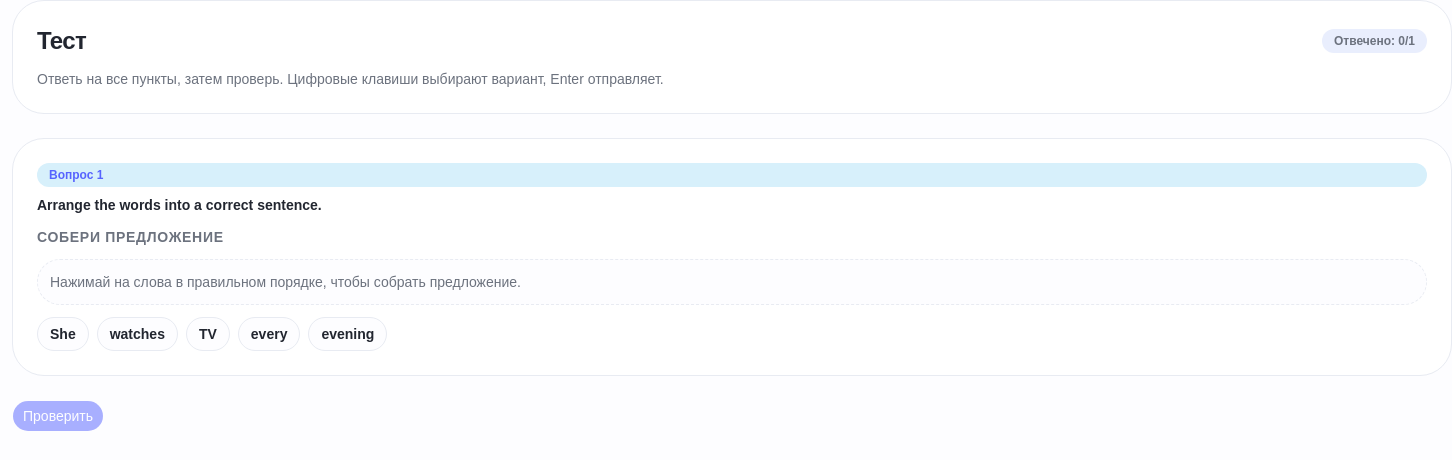
QuizRunner › word_order builds the sentence by tapping tokens and submits the ordering
Expected: the text "Arrange the words into a correct sentence." is shown, [37,197,322,213]
Click the button "She" at point(63, 334), box [37,317,89,351]
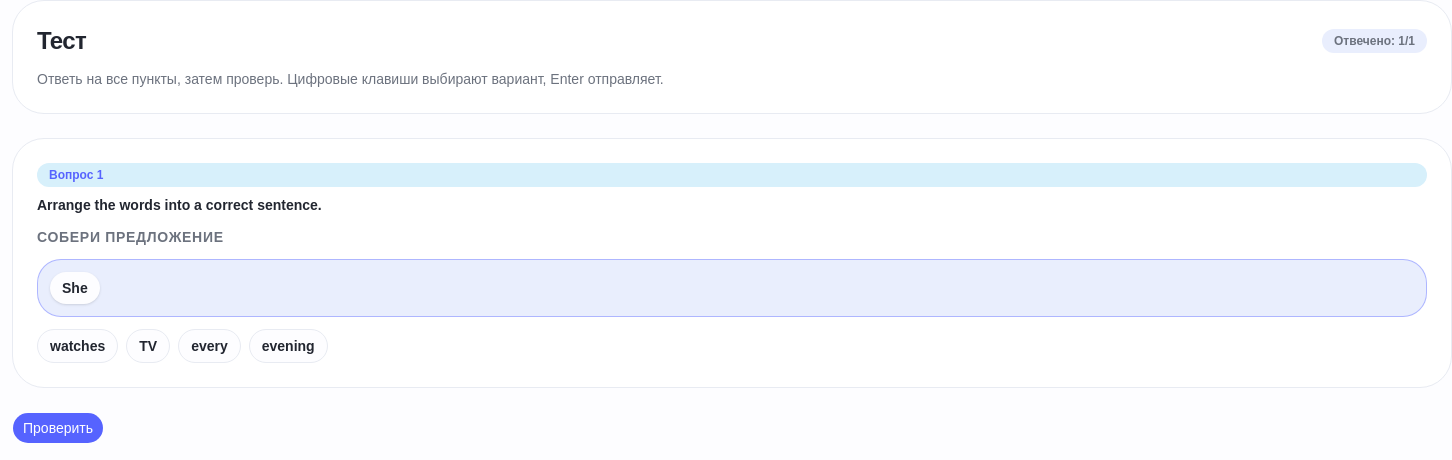
Click the button "watches" at point(78, 346), box [37,329,118,363]
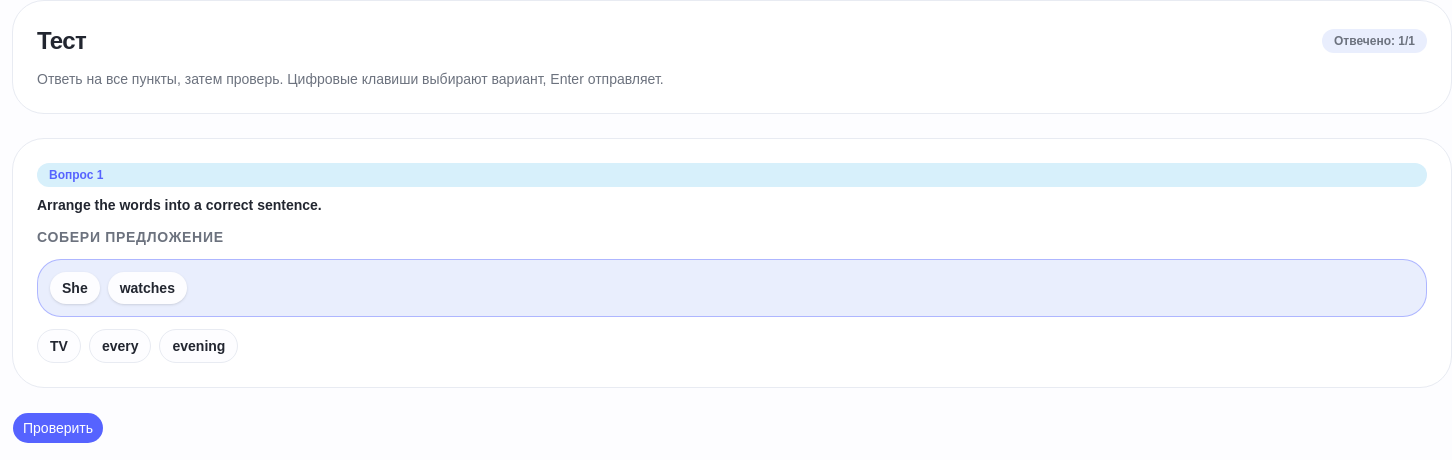
Click the button "TV" at point(59, 346), box [37,329,81,363]
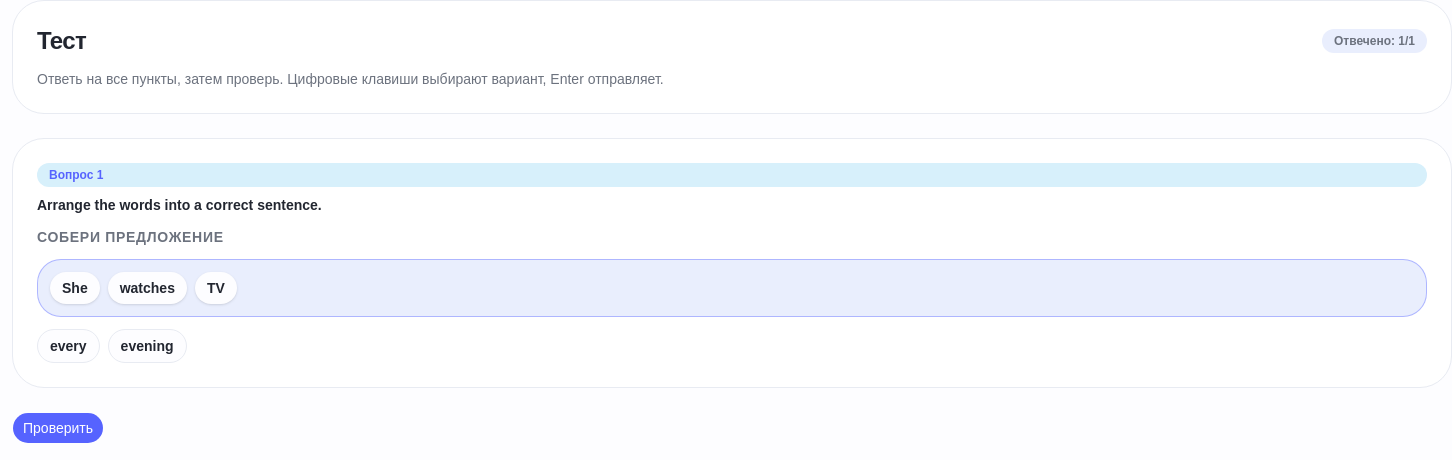
Click the button "every" at point(68, 346), box [37,329,100,363]
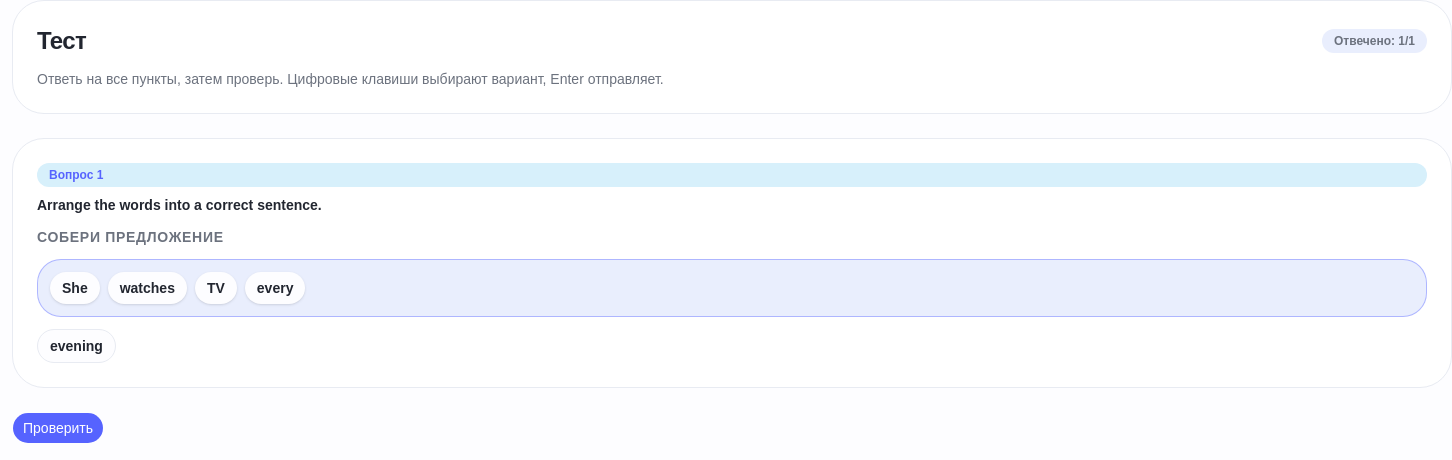
Click the button "evening" at point(76, 346), box [37,329,116,363]
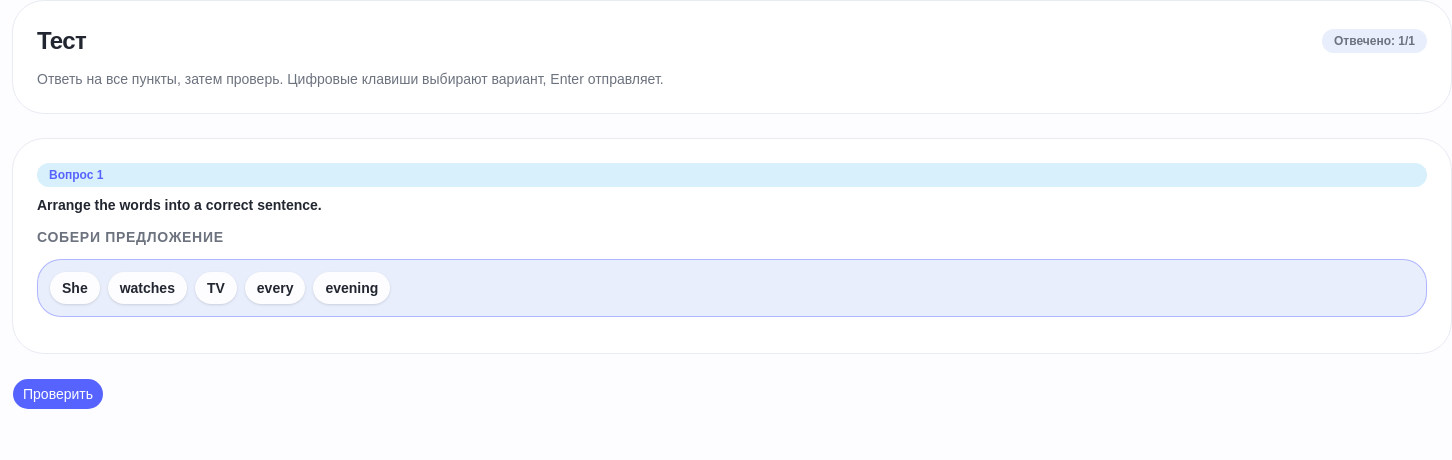
Click the button "Проверить" at point(58, 394), box [12,378,104,410]
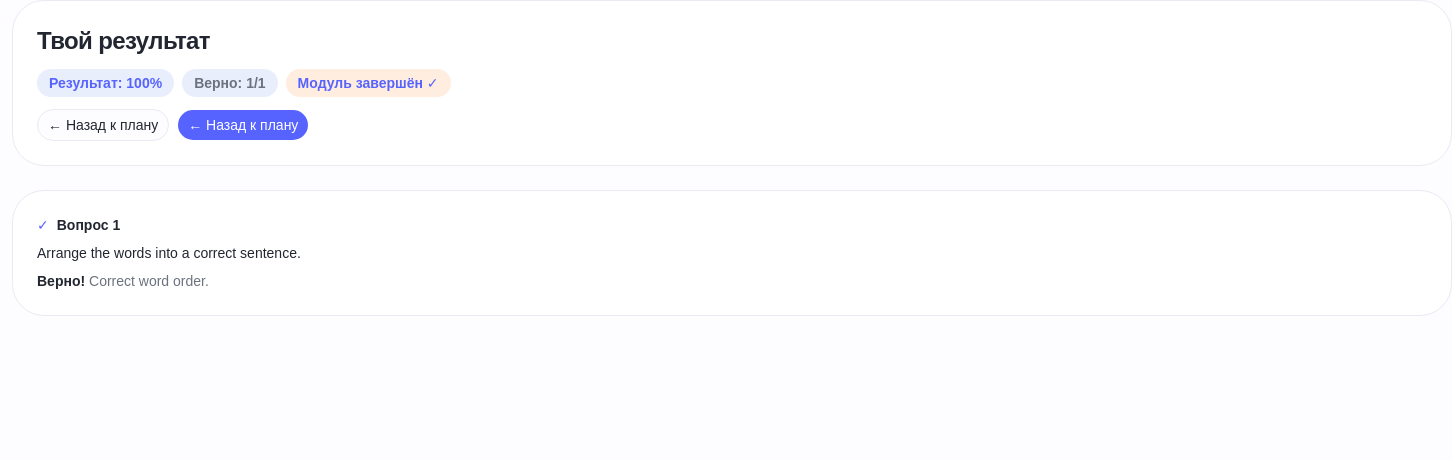
Now the text "Результат: 100%" is shown, box [37,69,174,97]
